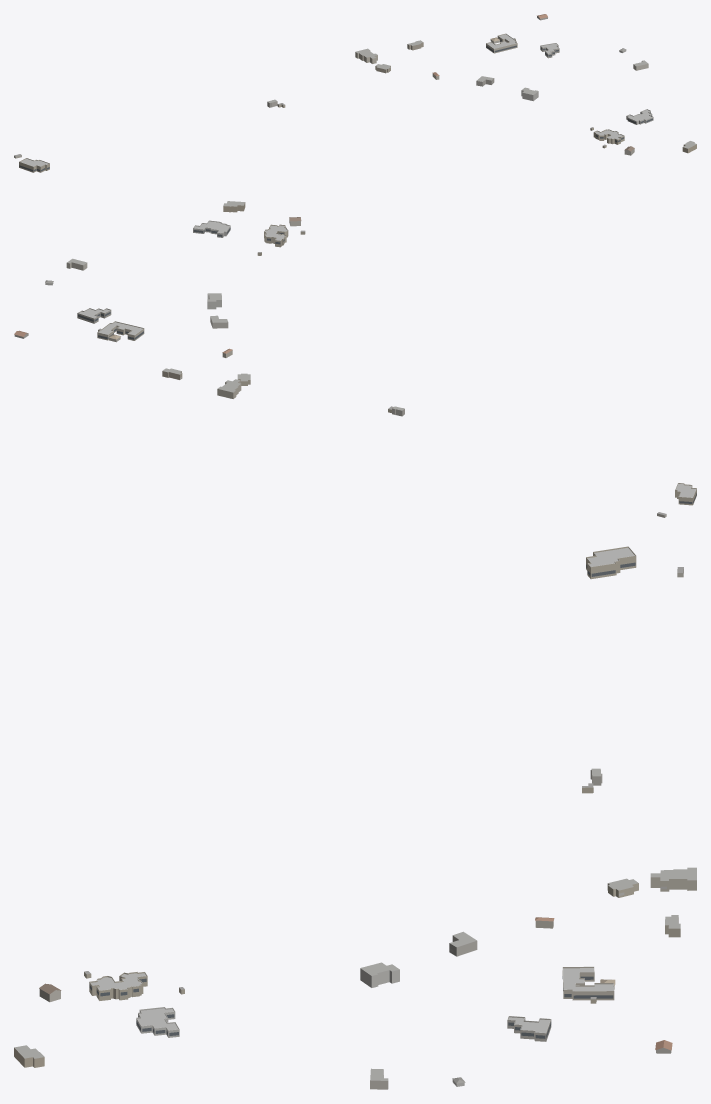
The model's file is buildings_r4_c0.glb.
3 views of the same model, one above another, from view 1: azimuth 30°, elevation 25°; view 2: azimuth 150°, elevation 25°; view 3: azimuth 270°, elevation 25° (orthographic). The views are drawn at different scales.
Visible parts, largest first — view 1: buildings_r4_c0; view 2: buildings_r4_c0; view 3: buildings_r4_c0.
Part boxes in pixels (x1,y1,x2,y2): buildings_r4_c0: [14, 14, 696, 172]; buildings_r4_c0: [14, 201, 696, 517]; buildings_r4_c0: [14, 546, 696, 1089].
Bounding box in the file's own units: 1025 × 36.4 × 538.
